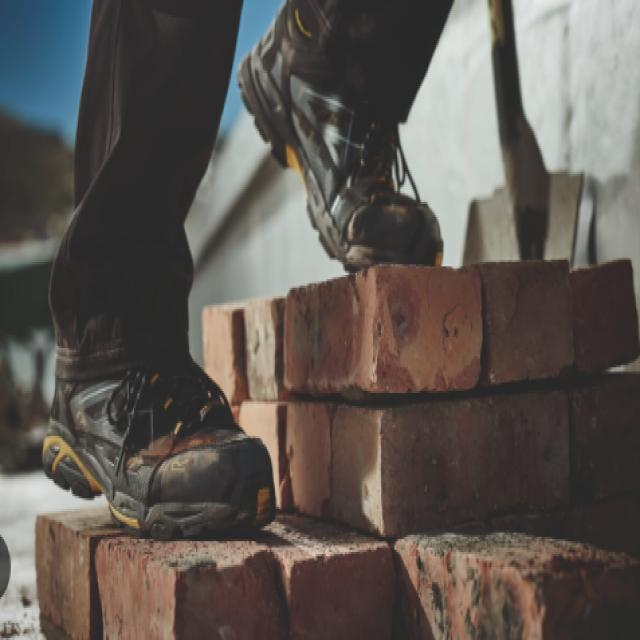shoes: (38, 0, 450, 550)
